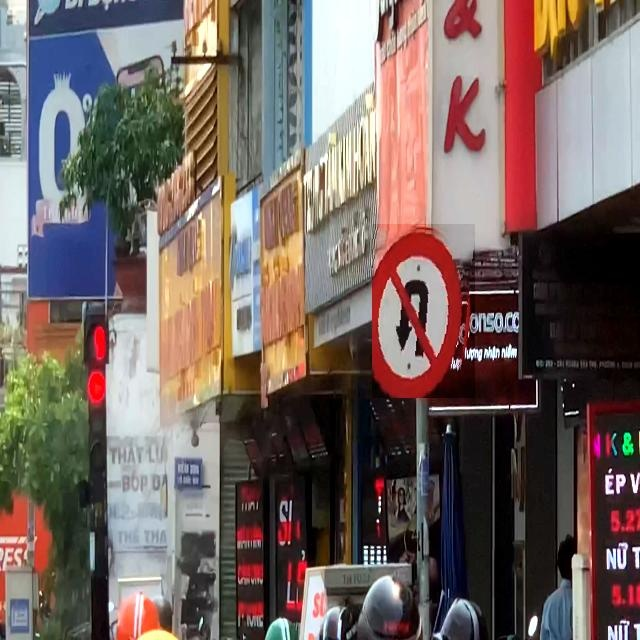bien_cam: (372, 224, 475, 398)
